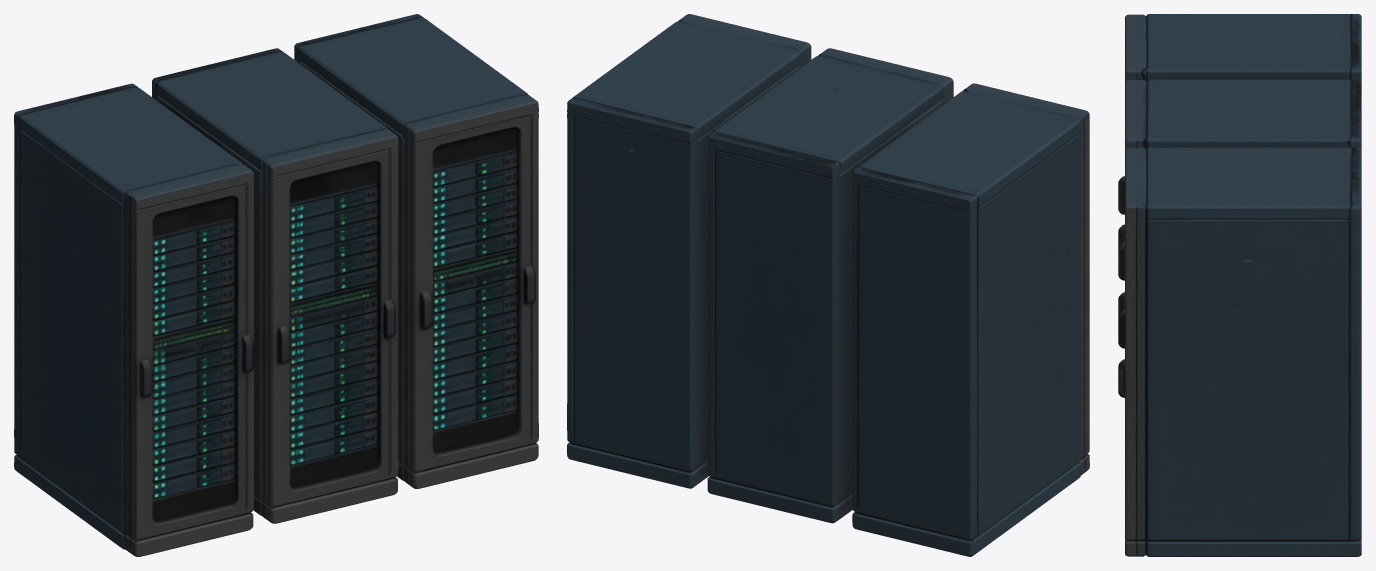
File: servers.glb
3 renders of one model, left to right at view 1: azimuth 30°, elevation 25°; view 2: azimuth 150°, elevation 25°; view 3: azimuth 270°, elevation 25°, orthographic. The views are drawn at different scales.
Parts seen in each view (by area): view 1: node_0_Material.001_0 (×5); view 2: node_0_Material.001_0 (×5); view 3: node_0_Material.001_0 (×4).
Boxes of the visible parts, x1,y1,x2,y2 form: node_0_Material.001_0 (×5): (14,14,538,556); node_0_Material.001_0 (×5): (567,14,1089,556); node_0_Material.001_0 (×4): (1118,14,1361,556).
Size of the model in its own units: 0.8565 by 0.7232 by 0.4545.
Materials: 1 (1 with a texture image).
